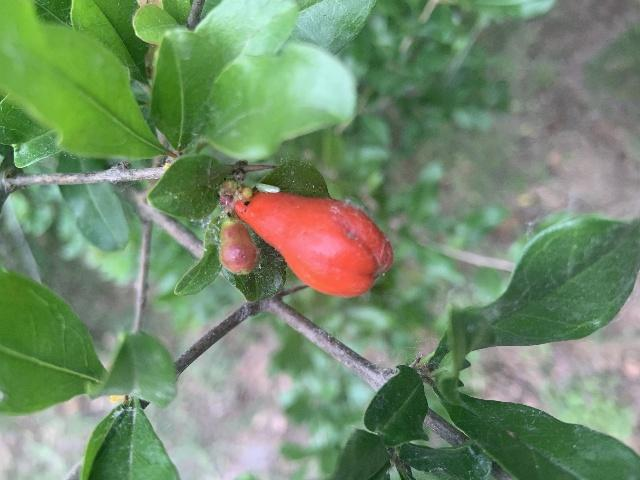bud: (236, 189, 392, 298), (219, 220, 258, 274)
